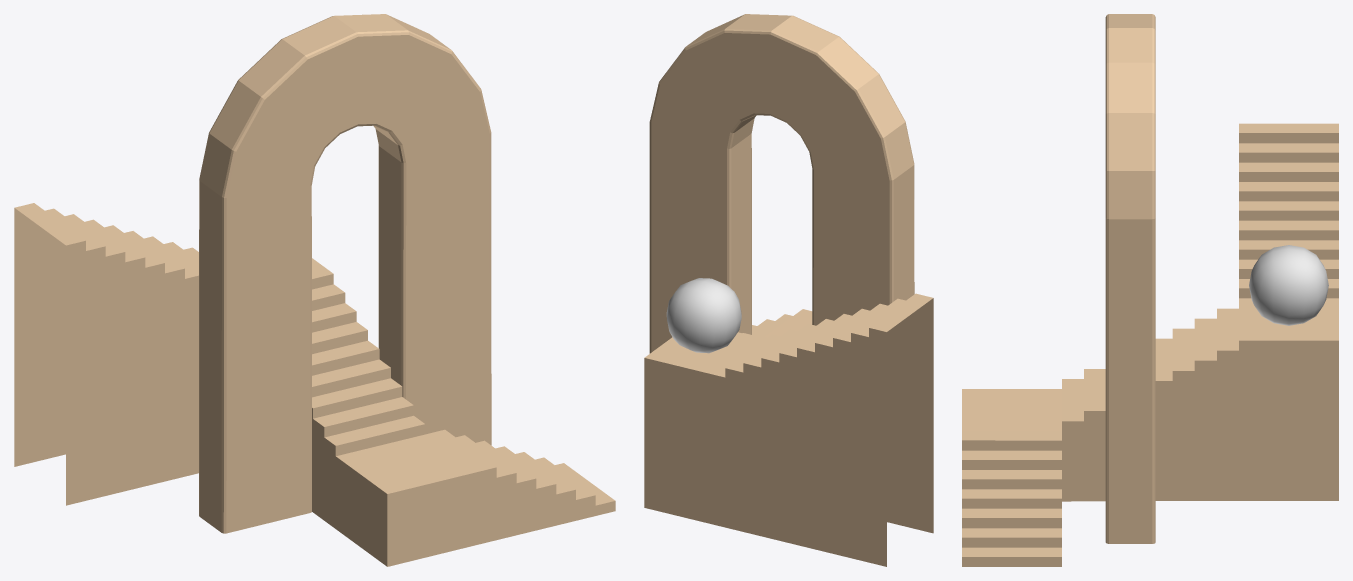
File: experience.glb
3 views of the same model, side by side, from view 1: azimuth 30°, elevation 25°; view 2: azimuth 150°, elevation 25°; view 3: azimuth 270°, elevation 25° (orthographic). The views are drawn at different scales.
Parts seen in each view (by area): view 1: Circle, Cube.002; view 2: Cube.002, Circle, Cube; view 3: Cube.002, Circle, Cube.
Boxes of the visible parts, x1,y1,x2,y2 form: Circle: (199, 14, 491, 533); Cube.002: (14, 203, 615, 566); Cube.002: (644, 293, 933, 566); Circle: (649, 14, 914, 353); Cube: (666, 278, 741, 353); Cube.002: (962, 123, 1338, 566); Circle: (1105, 14, 1155, 543); Cube: (1249, 245, 1328, 325).
Size of the model in its own units: 1.82 by 2 by 1.51.
